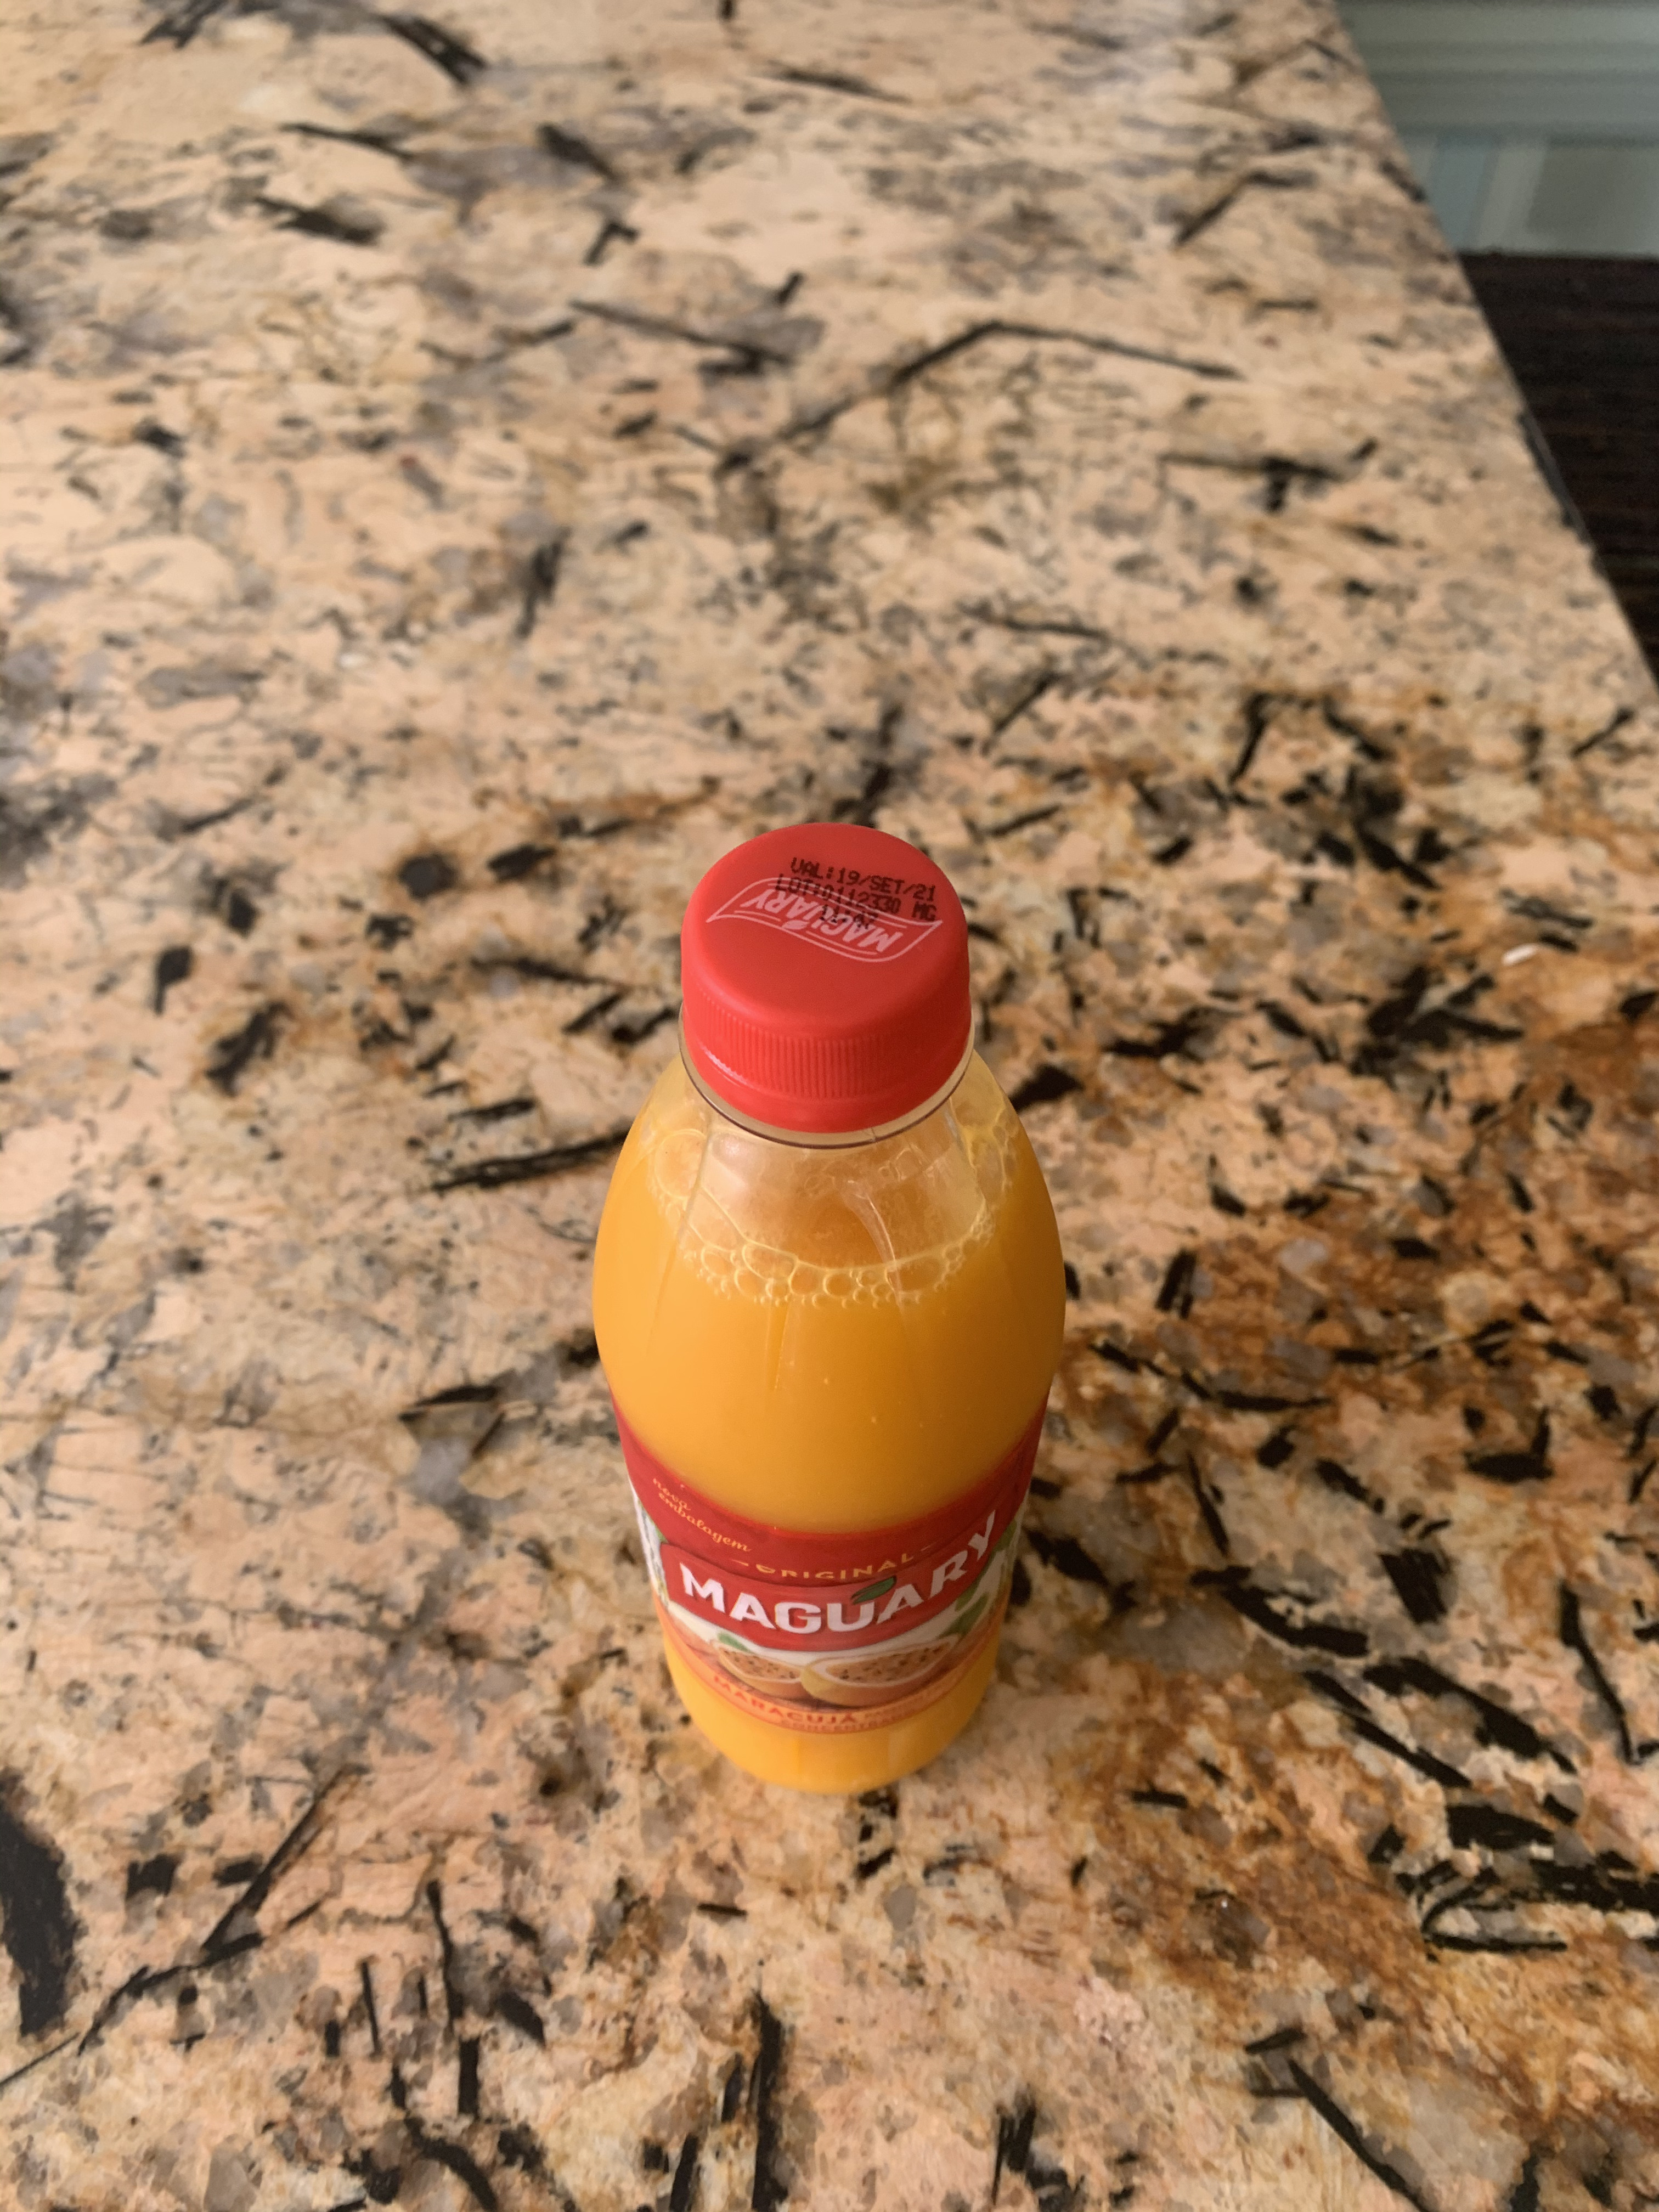maguary: (519, 773, 1121, 1909)
